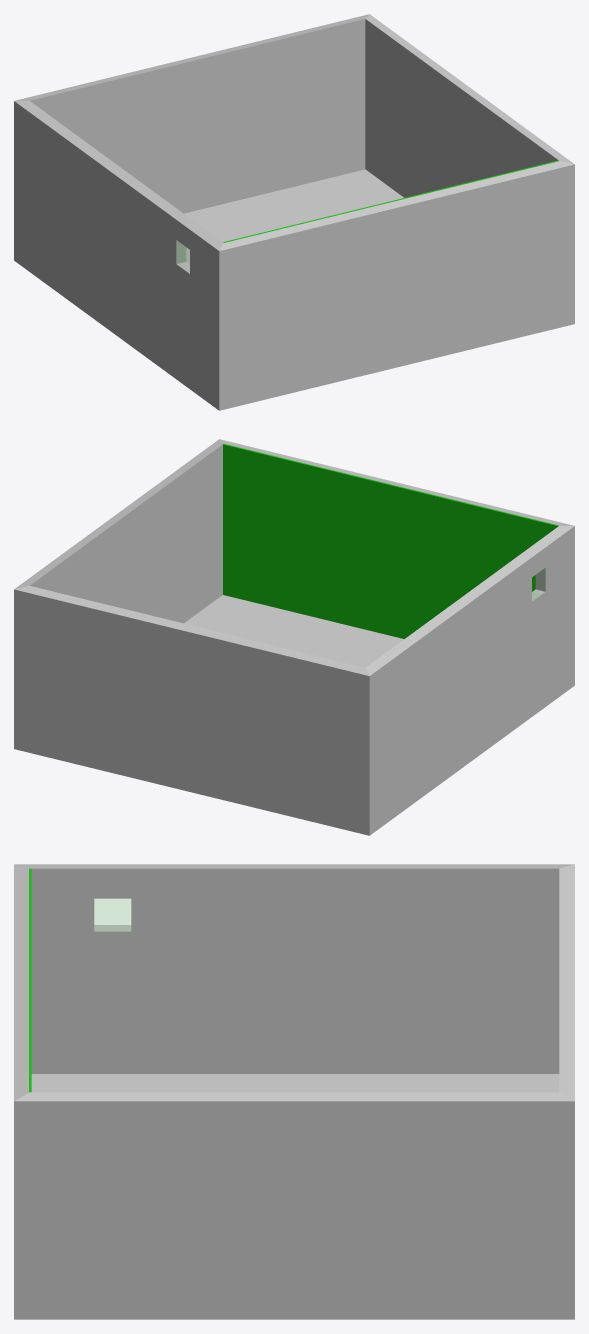
Rendered from lvl1.dae.
3 views of the same model, one above another, from view 1: azimuth 30°, elevation 25°; view 2: azimuth 150°, elevation 25°; view 3: azimuth 270°, elevation 25° (orthographic). The views are drawn at different scales.
Visible parts, largest first — view 1: Room, Plane; view 2: Room, Plane; view 3: Room, Finish, Plane.
Part boxes in pixels (left/top/right/bottom): Room: left=14, top=14, right=574, bottom=410; Plane: left=223, top=160, right=558, bottom=242; Room: left=14, top=439, right=574, bottom=835; Plane: left=223, top=444, right=558, bottom=638; Room: left=14, top=864, right=574, bottom=1319; Finish: left=95, top=899, right=130, bottom=926; Plane: left=29, top=868, right=31, bottom=1092.
Size of the model in its own units: 9.24 by 9.24 by 4.01.
